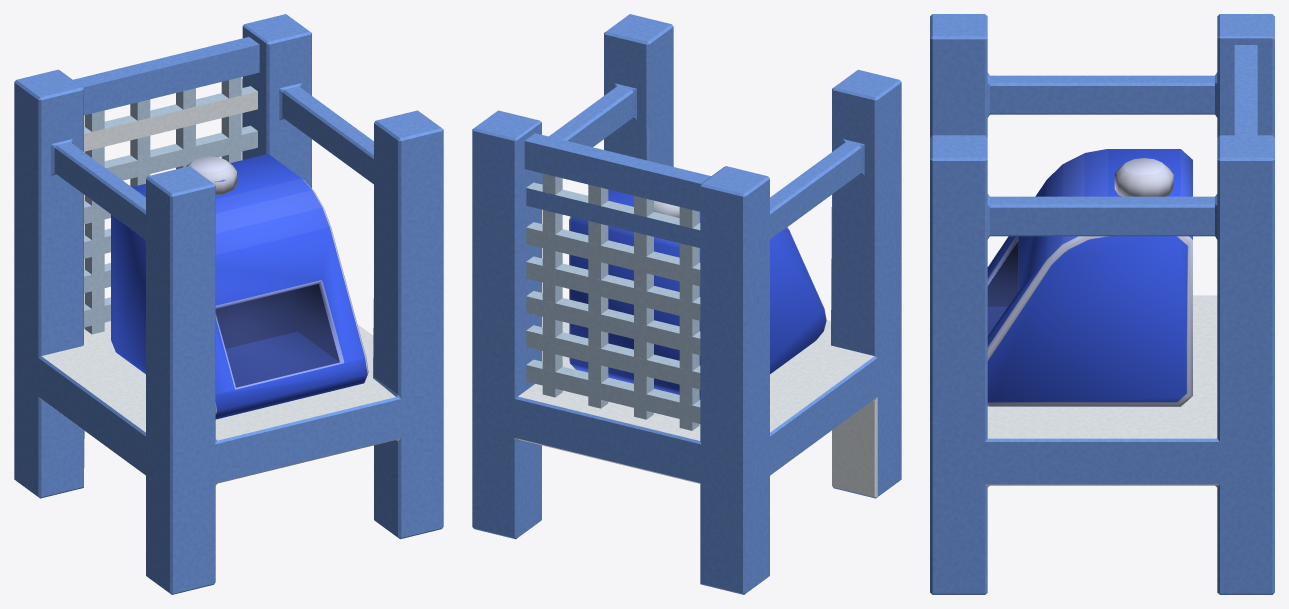
File: blue_work_zone.glb
3 views of the same model, side by side, from view 1: azimuth 30°, elevation 25°; view 2: azimuth 150°, elevation 25°; view 3: azimuth 270°, elevation 25° (orthographic). The views are drawn at different scales.
Visible parts, largest first — view 1: Cube, assemble machine.001; view 2: Cube, assemble machine.001; view 3: Cube, assemble machine.001.
Part boxes in pixels (left/top/right/bottom): Cube: left=14, top=14, right=443, bottom=594; assemble machine.001: left=111, top=154, right=368, bottom=419; Cube: left=472, top=14, right=901, bottom=594; assemble machine.001: left=569, top=189, right=826, bottom=399; Cube: left=930, top=14, right=1274, bottom=594; assemble machine.001: left=987, top=149, right=1192, bottom=406.
Bounding box in the file's own units: 2 × 2.8 × 2.
2 materials, 2 textured.
